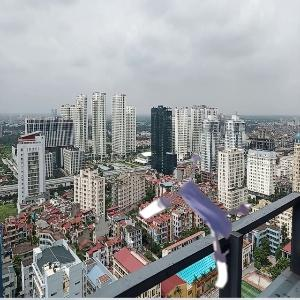drone: (143, 159, 262, 278)
